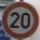20 km speed: (1, 1, 39, 39)
